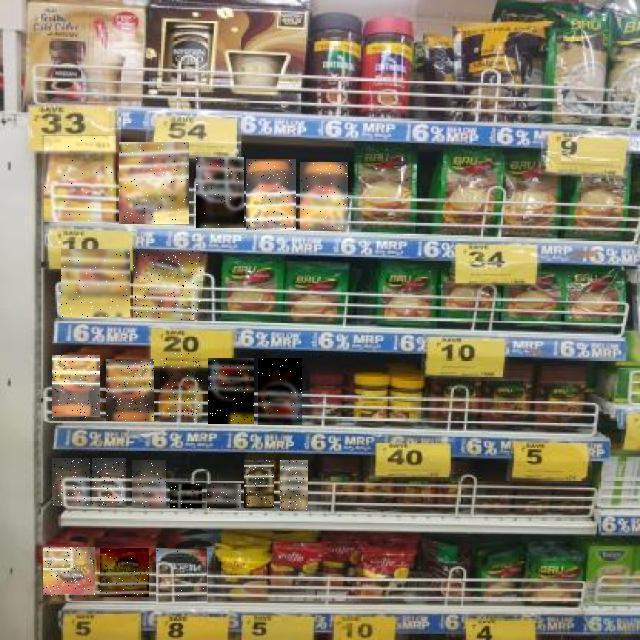Coffee: (44, 136, 116, 222), (119, 142, 189, 224), (134, 251, 202, 321), (61, 249, 130, 317), (246, 159, 296, 230), (196, 157, 244, 228), (300, 162, 348, 230), (52, 356, 100, 420), (208, 358, 254, 424), (106, 359, 154, 421), (258, 358, 302, 425), (160, 353, 202, 422), (156, 548, 207, 604), (43, 548, 95, 598), (100, 548, 149, 597), (53, 459, 91, 507), (92, 459, 126, 507), (132, 460, 166, 508), (244, 461, 274, 509), (280, 460, 308, 511), (207, 484, 241, 508), (170, 484, 202, 508)
